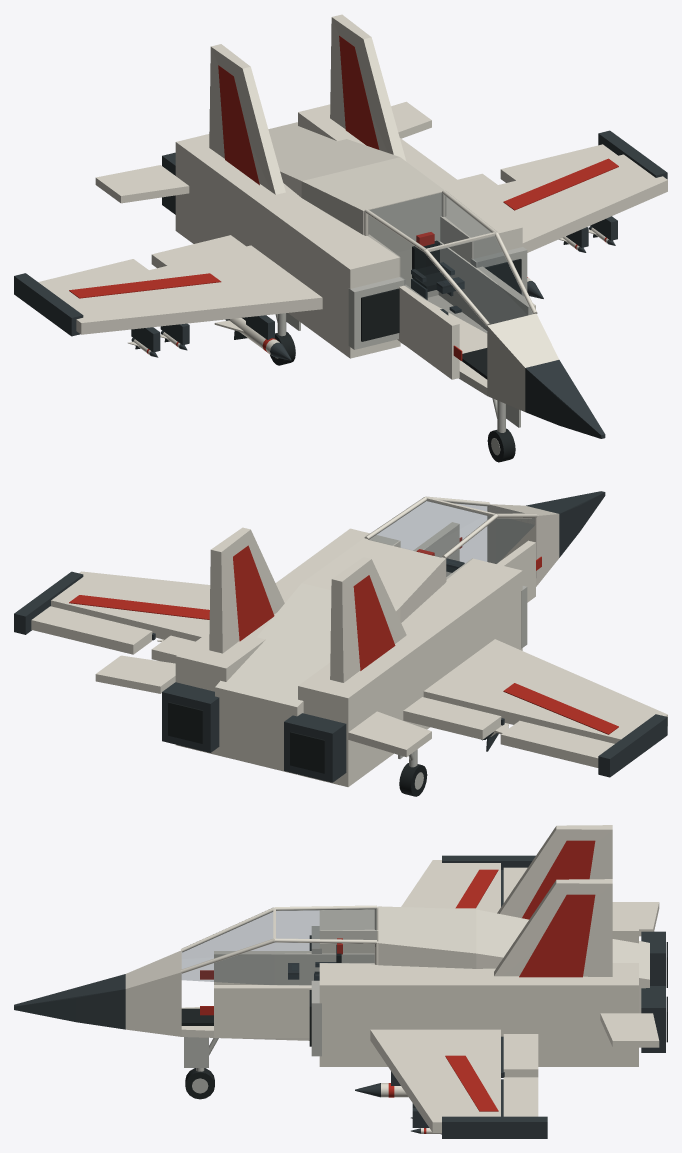
3 views of the same model, one above another, from view 1: azimuth 30°, elevation 25°; view 2: azimuth 150°, elevation 25°; view 3: azimuth 270°, elevation 25° (orthographic). The views are drawn at different scales.
Visible parts, largest first — view 1: jet-a-fleet-armor, jet-a-fleet-glass, jet-a-fleet-machine, jet-a-fleet-red, jet-a-fleet-rubber, elevator-left-fleet-armor, jet-a-fleet-edge, crew-chair-pilot-painted, aileron-right-painted, aileron-left-painted, flap-left-painted, store-left-large-painted (+2 smaller); view 2: jet-a-fleet-armor, jet-a-fleet-machine, jet-a-fleet-red, jet-a-fleet-glass, aileron-right-painted, aileron-left-painted, flap-left-painted, jet-a-fleet-rubber, elevator-left-fleet-armor, elevator-right-fleet-armor, gear-wheel-left-0-0-painted, flap-right-painted; view 3: jet-a-fleet-armor, jet-a-fleet-glass, jet-a-fleet-machine, jet-a-fleet-red, elevator-right-fleet-armor, flap-right-painted, aileron-right-painted, jet-a-fleet-edge, landing-gear-nose-painted, jet-a-fleet-rubber, gear-wheel-nose-0-0-painted, elevator-left-fleet-armor (+2 smaller).
Boxes of the visible parts, left/top/right/bottom form: jet-a-fleet-armor: left=54, top=14, right=667, bottom=411; jet-a-fleet-glass: left=368, top=193, right=532, bottom=332; jet-a-fleet-machine: left=14, top=130, right=667, bottom=438; jet-a-fleet-red: left=69, top=35, right=618, bottom=360; jet-a-fleet-rubber: left=361, top=259, right=521, bottom=379; elevator-left-fleet-armor: left=95, top=165, right=189, bottom=203; jet-a-fleet-edge: left=348, top=247, right=527, bottom=349; crew-chair-pilot-painted: left=411, top=232, right=464, bottom=315; aileron-right-painted: left=500, top=144, right=617, bottom=182; aileron-left-painted: left=38, top=259, right=148, bottom=293; flap-left-painted: left=151, top=235, right=245, bottom=268; store-left-large-painted: left=214, top=317, right=291, bottom=360; jet-a-fleet-armor: left=51, top=496, right=667, bottom=786; jet-a-fleet-machine: left=14, top=491, right=667, bottom=782; jet-a-fleet-red: left=69, top=537, right=618, bottom=734; jet-a-fleet-glass: left=369, top=500, right=534, bottom=578; aileron-right-painted: left=31, top=606, right=155, bottom=654; aileron-left-painted: left=500, top=720, right=614, bottom=767; flap-left-painted: left=403, top=697, right=504, bottom=739; jet-a-fleet-rubber: left=168, top=702, right=325, bottom=773; elevator-left-fleet-armor: left=348, top=711, right=431, bottom=757; elevator-right-fleet-armor: left=95, top=655, right=175, bottom=693; gear-wheel-left-0-0-painted: left=399, top=763, right=427, bottom=796; flap-right-painted: left=151, top=635, right=195, bottom=663; jet-a-fleet-armor: left=125, top=825, right=649, bottom=1132; jet-a-fleet-glass: left=182, top=909, right=376, bottom=985; jet-a-fleet-machine: left=14, top=855, right=665, bottom=1138; jet-a-fleet-red: left=200, top=840, right=595, bottom=1111; elevator-right-fleet-armor: left=600, top=1013, right=659, bottom=1047; flap-right-painted: left=501, top=1034, right=538, bottom=1077; aileron-right-painted: left=501, top=1077, right=538, bottom=1116; jet-a-fleet-edge: left=311, top=926, right=321, bottom=1056; landing-gear-nose-painted: left=184, top=1037, right=218, bottom=1071; jet-a-fleet-rubber: left=181, top=935, right=667, bottom=1046; gear-wheel-nose-0-0-painted: left=185, top=1068, right=214, bottom=1099; elevator-left-fleet-armor: left=612, top=902, right=659, bottom=936.
Bounding box in the file's own units: 71.03 × 30.13 × 73.68.
